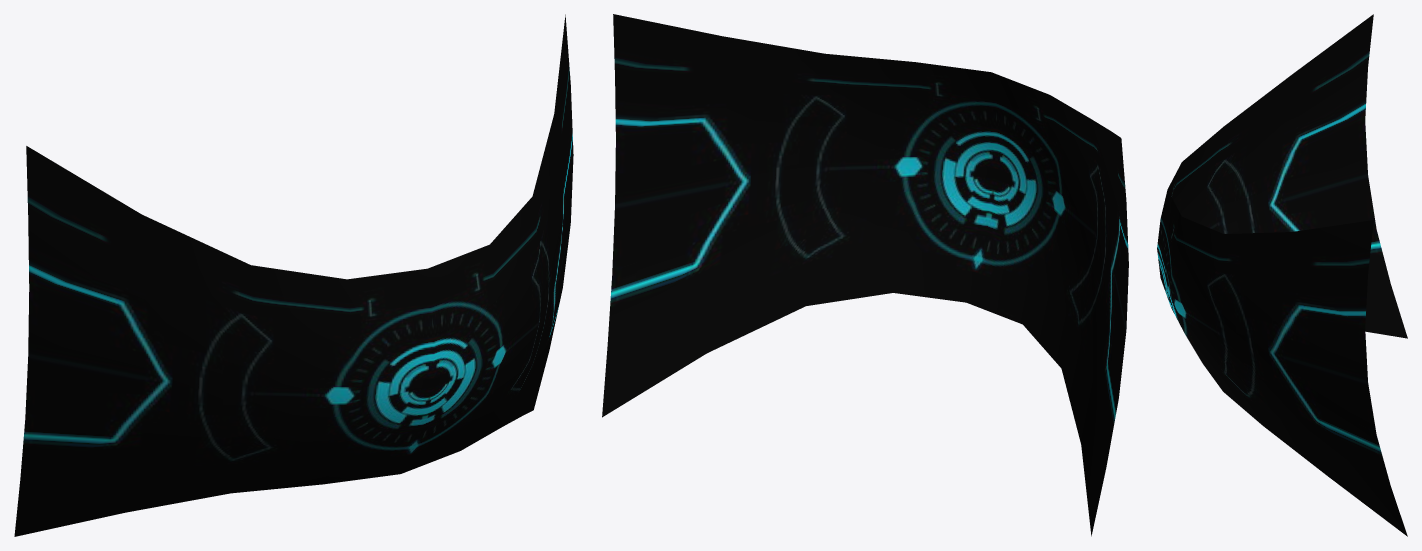
Rendered from hudMesh.fbx.
The picture shows the model from 3 angles, left to right: view 1: azimuth 30°, elevation 25°; view 2: azimuth 150°, elevation 25°; view 3: azimuth 270°, elevation 25°; orthographic projection. The views are drawn at different scales.
Parts seen in each view (by area): view 1: hudPl; view 2: hudPl; view 3: hudPl.
Boxes of the visible parts, <box> form: hudPl: <box>14,14,573,536</box>; hudPl: <box>602,14,1128,536</box>; hudPl: <box>1157,14,1407,536</box>.
Bounding box in the file's own units: 0.7098 × 0.5106 × 0.362.
1 material, 1 textured.
